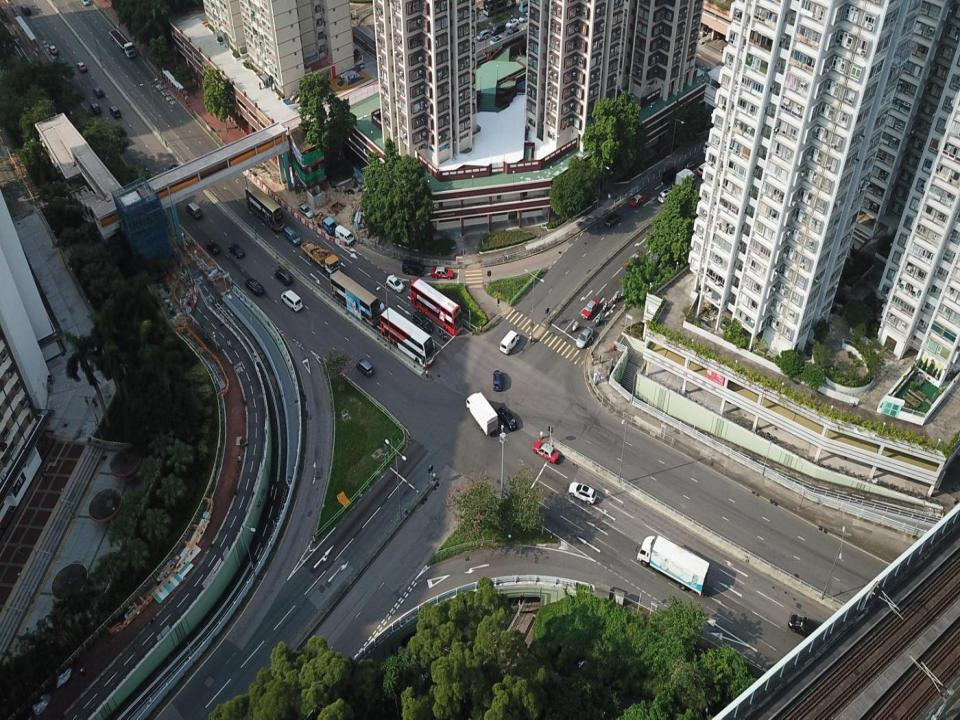bus: (380, 306, 436, 368), (410, 278, 464, 336), (329, 270, 382, 327), (245, 183, 285, 232)
car: (788, 613, 826, 640), (568, 480, 597, 505), (532, 440, 560, 464), (280, 288, 304, 312), (496, 406, 517, 431), (411, 310, 434, 332), (580, 297, 600, 321), (402, 258, 426, 277), (624, 250, 644, 272), (576, 325, 595, 348), (244, 277, 265, 296), (661, 167, 681, 186), (274, 267, 293, 286), (283, 226, 301, 246), (431, 265, 454, 280), (386, 274, 404, 293), (697, 159, 715, 177), (226, 242, 245, 259), (297, 201, 314, 219), (369, 294, 385, 313), (629, 192, 647, 207), (658, 188, 674, 204), (492, 369, 503, 390), (605, 212, 620, 227), (206, 241, 220, 257), (168, 164, 184, 177), (682, 159, 700, 170), (109, 105, 122, 119), (75, 60, 88, 73), (92, 86, 104, 99), (19, 4, 32, 16), (90, 102, 101, 115), (49, 44, 59, 56), (81, 0, 89, 6)
truck: (636, 534, 710, 596), (300, 238, 342, 278), (465, 391, 499, 436), (107, 28, 136, 58), (314, 210, 338, 237), (674, 167, 696, 191)
van: (499, 329, 520, 354), (334, 224, 355, 246), (355, 356, 374, 377), (184, 201, 203, 219)
